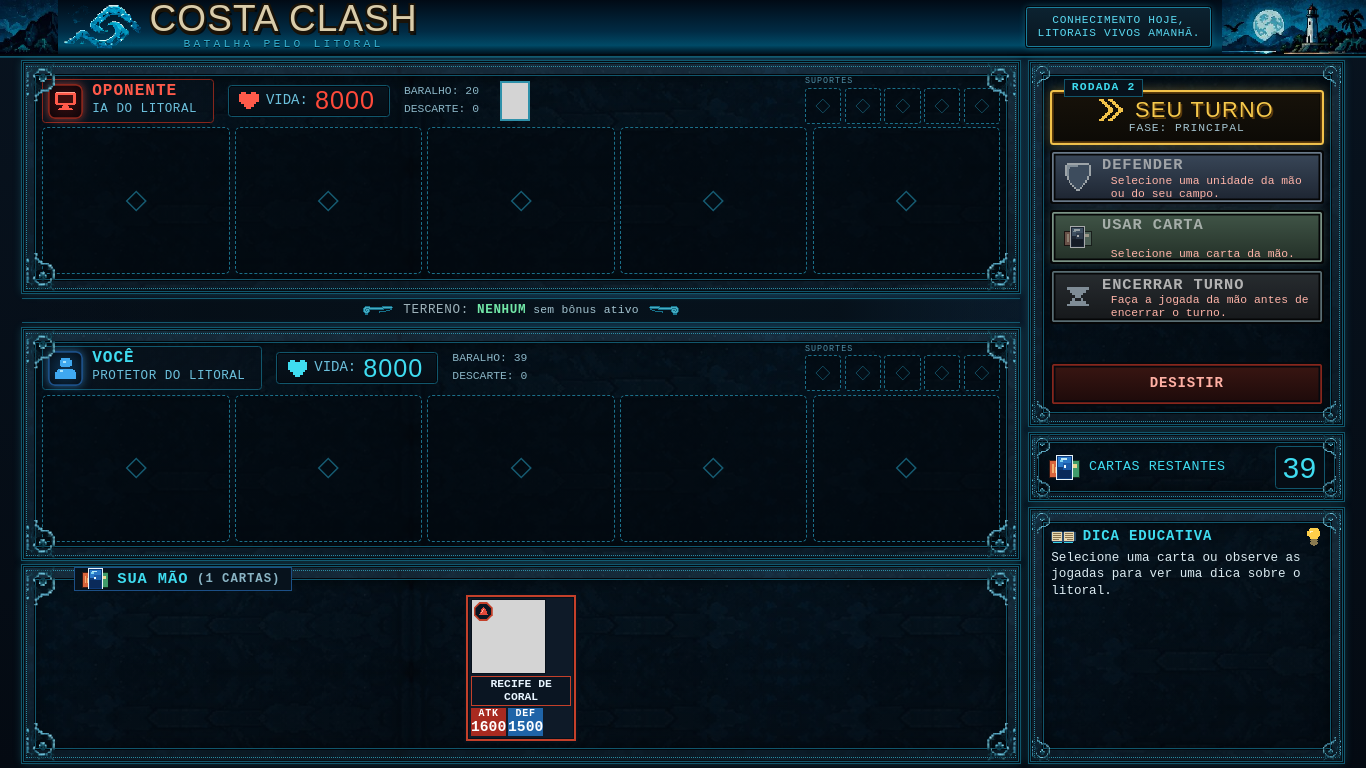
it: Partida: leitura do tabuleiro e jogadas › DEFENDER com unidade da mão escolhe a posição de entrada
Click the button with aria-label "Mão 1:": (521, 668) [466, 595, 576, 741]
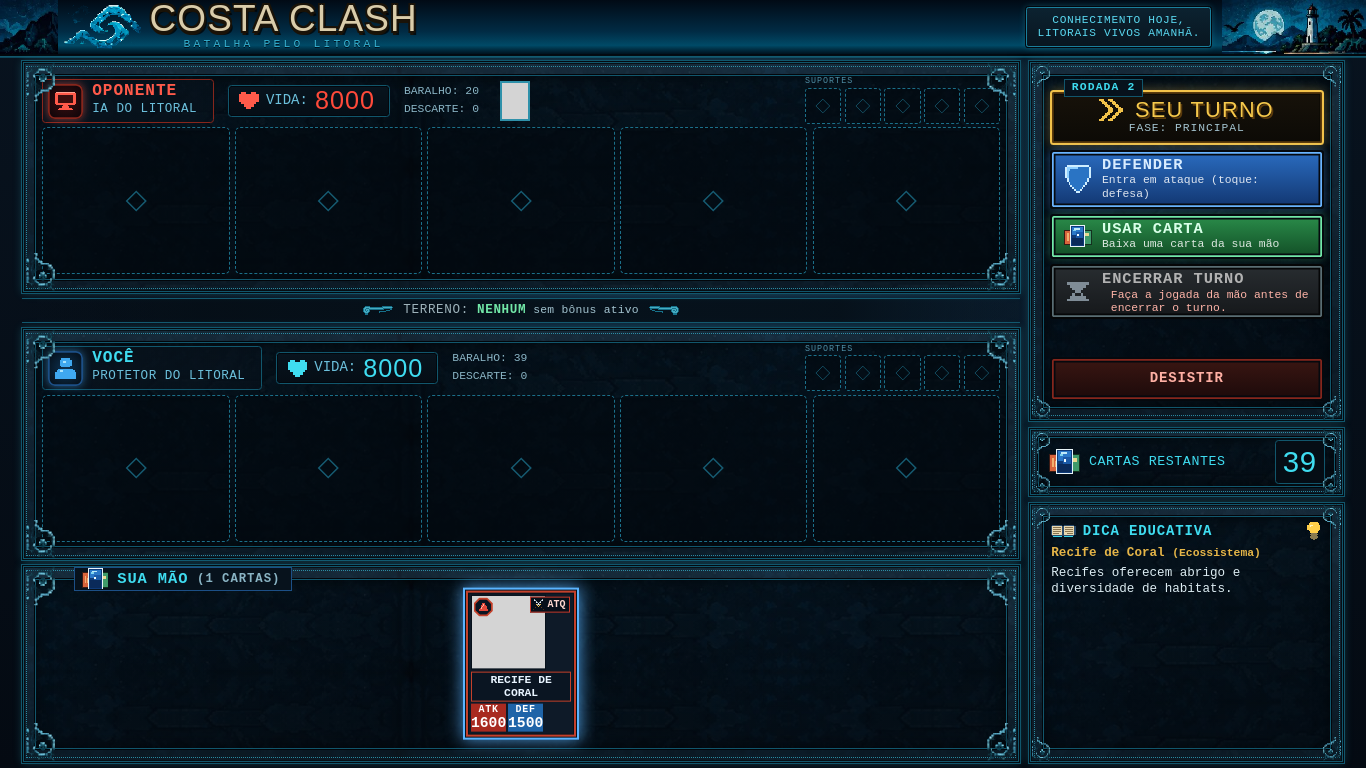
Click the button "Defender Entra em ataque (toque: defesa)": (1187, 179) [1050, 150, 1324, 209]
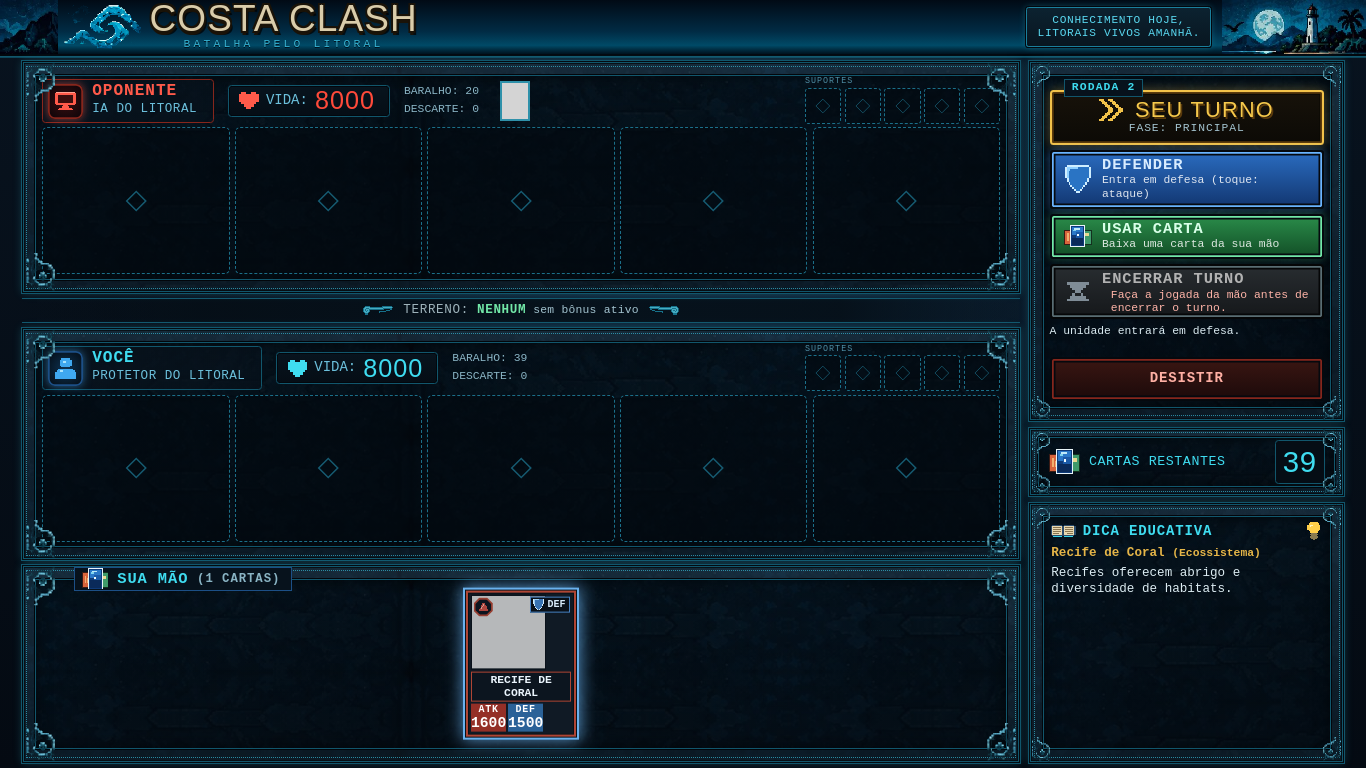
Click the button "Usar carta Baixa uma carta da sua mão": (1187, 236) [1050, 214, 1324, 259]
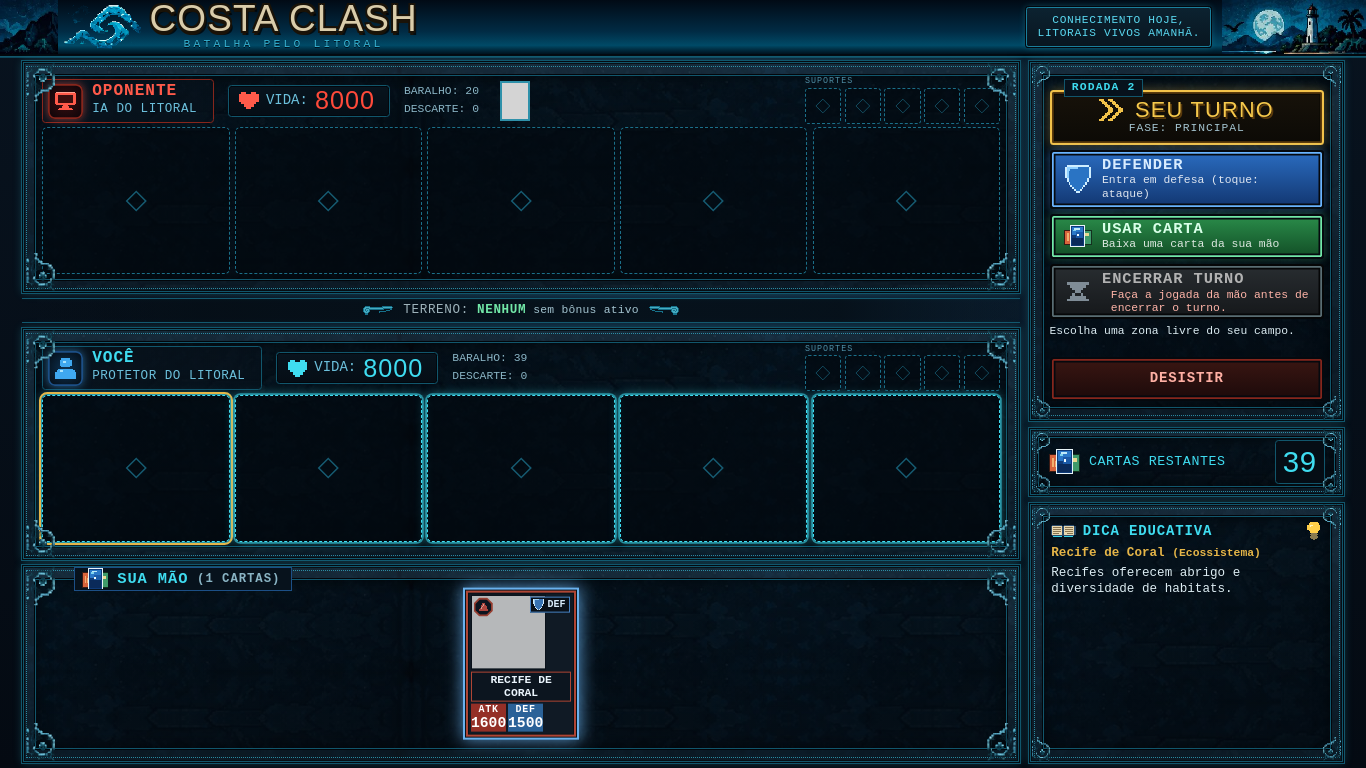
Click the button named "Zona 1 sua: vazia": (136, 468) [42, 395, 230, 542]
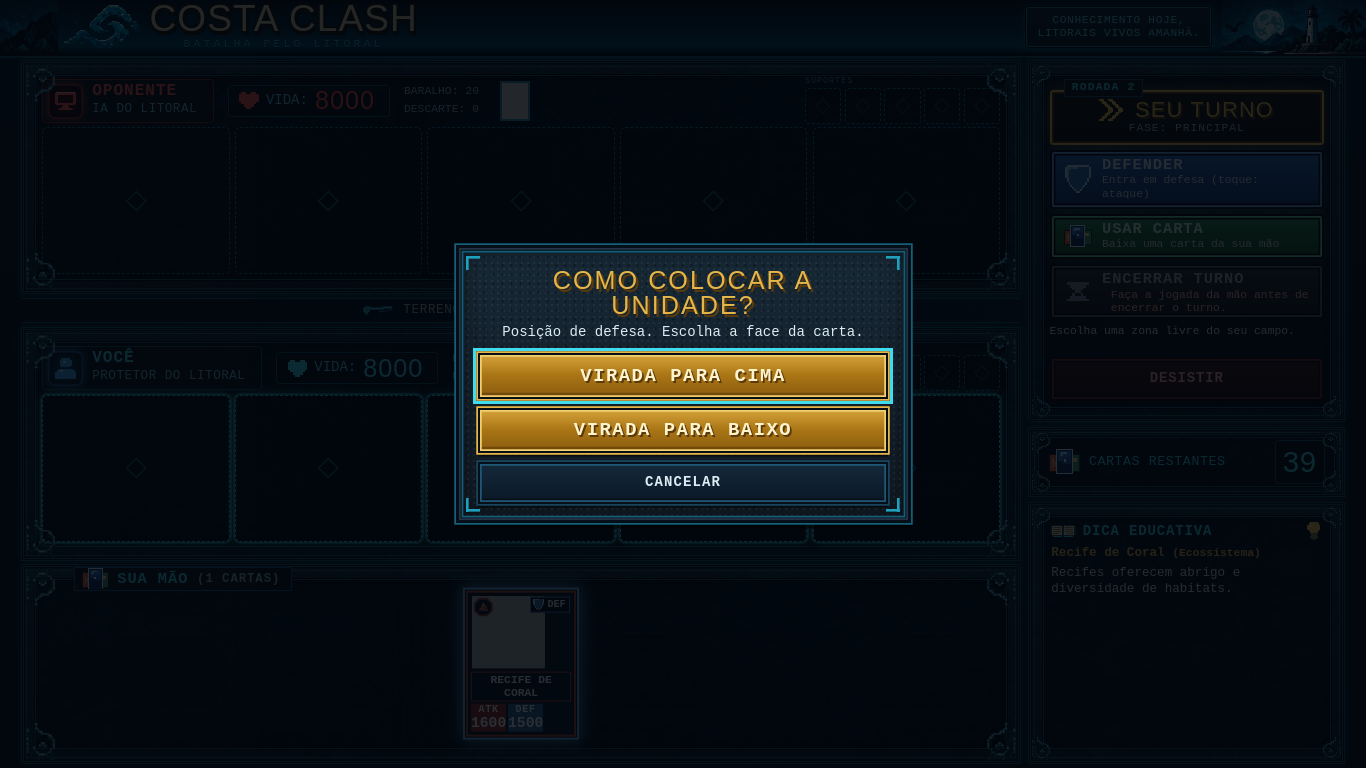
Click the button "Virada para cima": (683, 376) [478, 353, 888, 399]
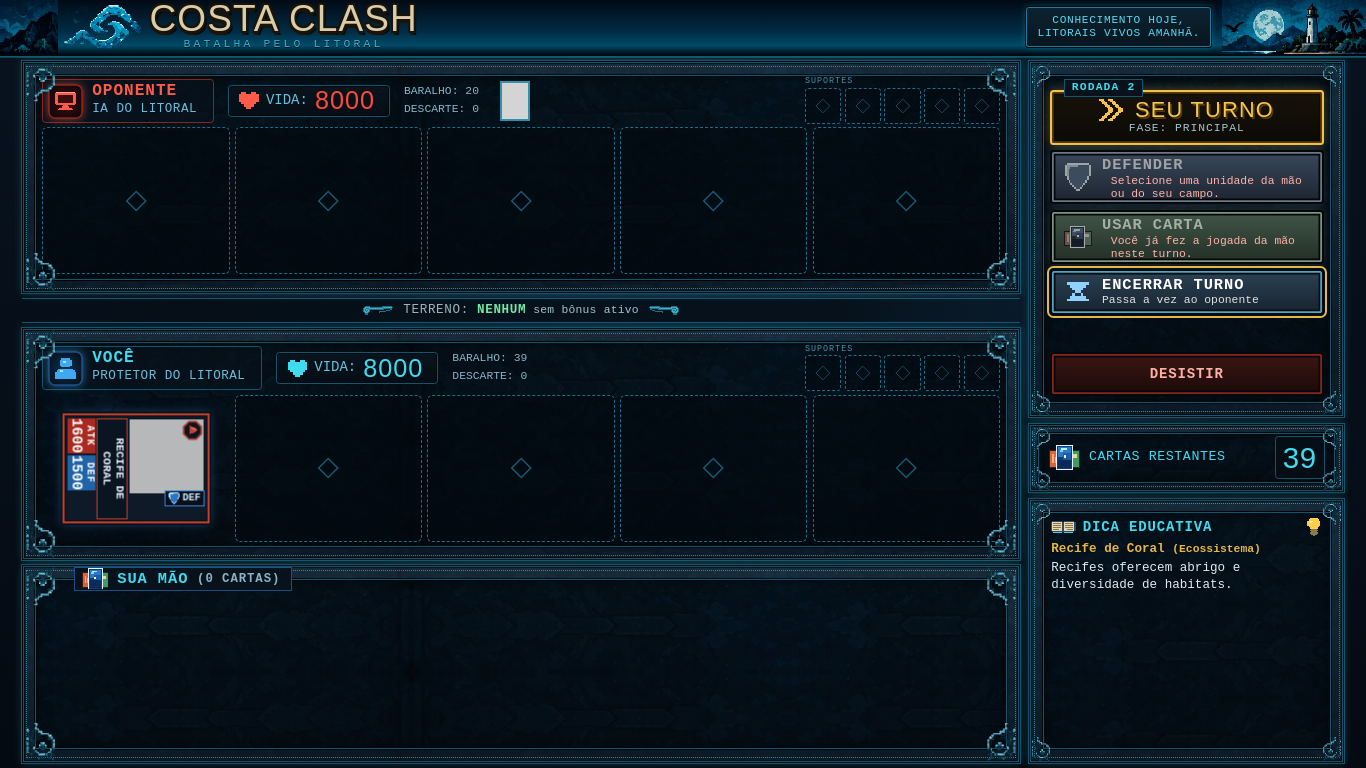
Check: the button "Recife de Coral ATK 1600 DEF 1500 DEF" is shown, box [62, 413, 209, 523]
